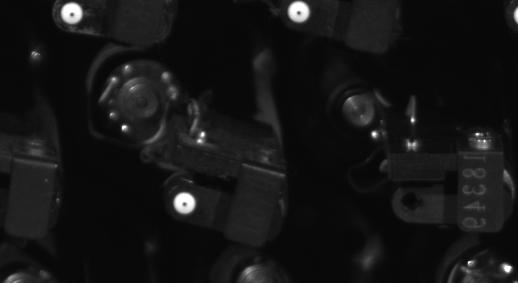fiber: (168, 188, 203, 217), (55, 1, 89, 25), (282, 1, 316, 25)
